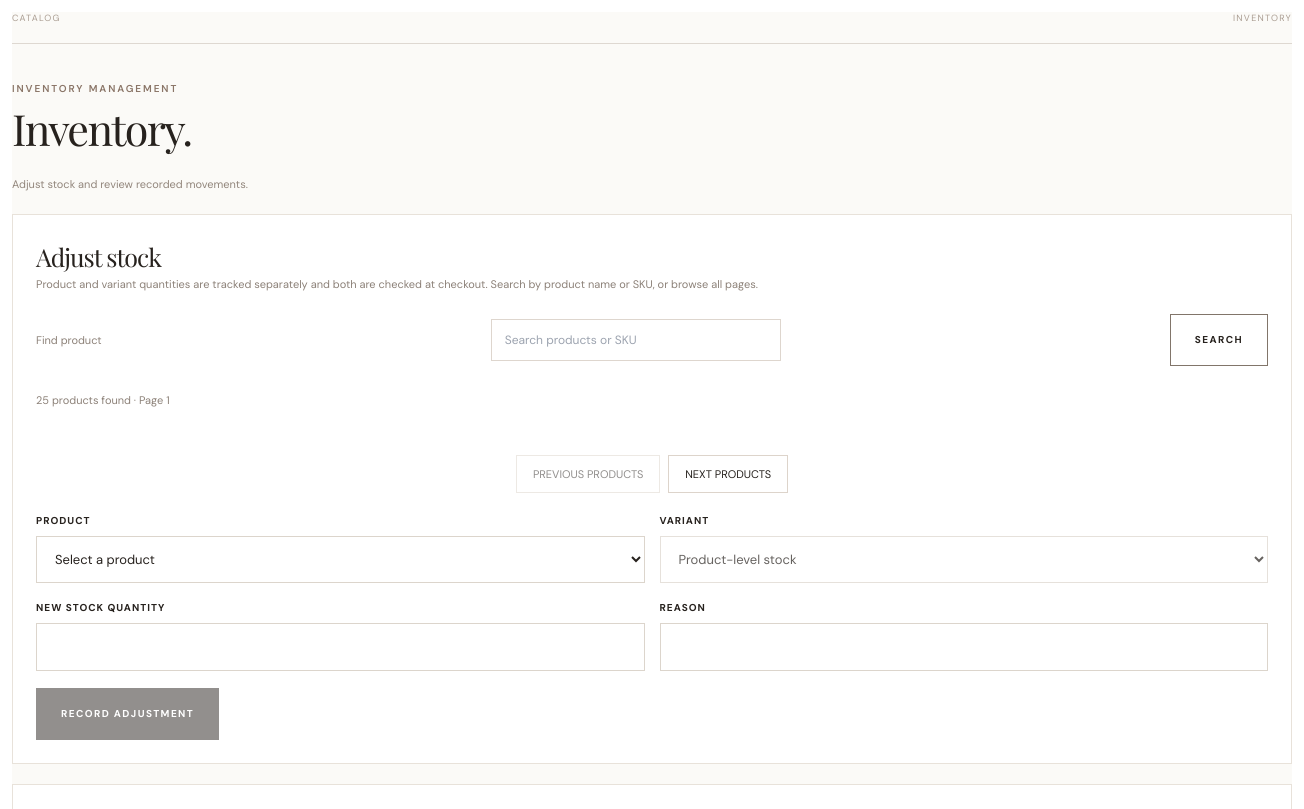
Test: Inventory adjustment › searches server-side and preserves the selected product when the result page changes
Expected: the text "25 products found · Page 1" is shown, [36, 393, 170, 407]
Select "Product 1 · 2 in stock" in the dropdown labelled "Product" at {"x": 340, "y": 560}, box [36, 536, 644, 583]
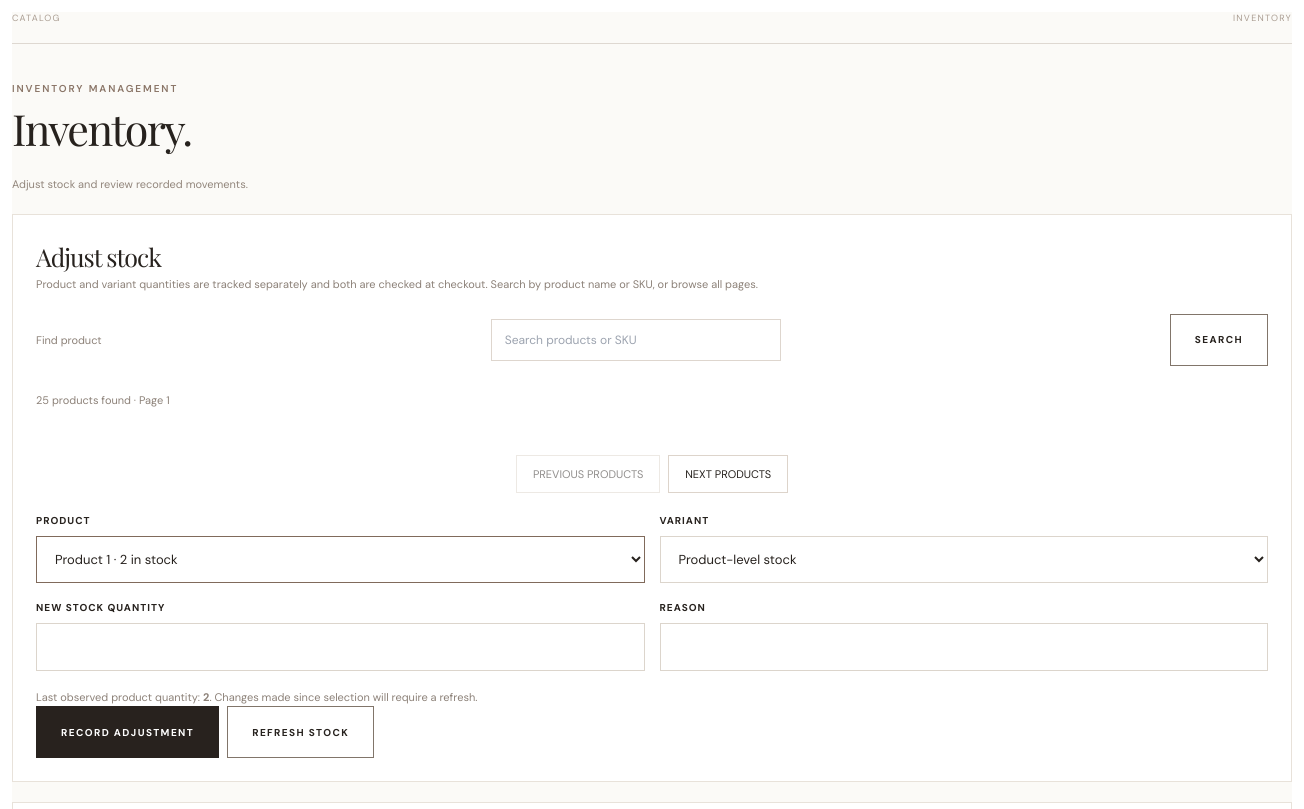
Type "SKU-25" into the field labelled "Find product" at {"x": 636, "y": 340}, box [491, 319, 781, 361]
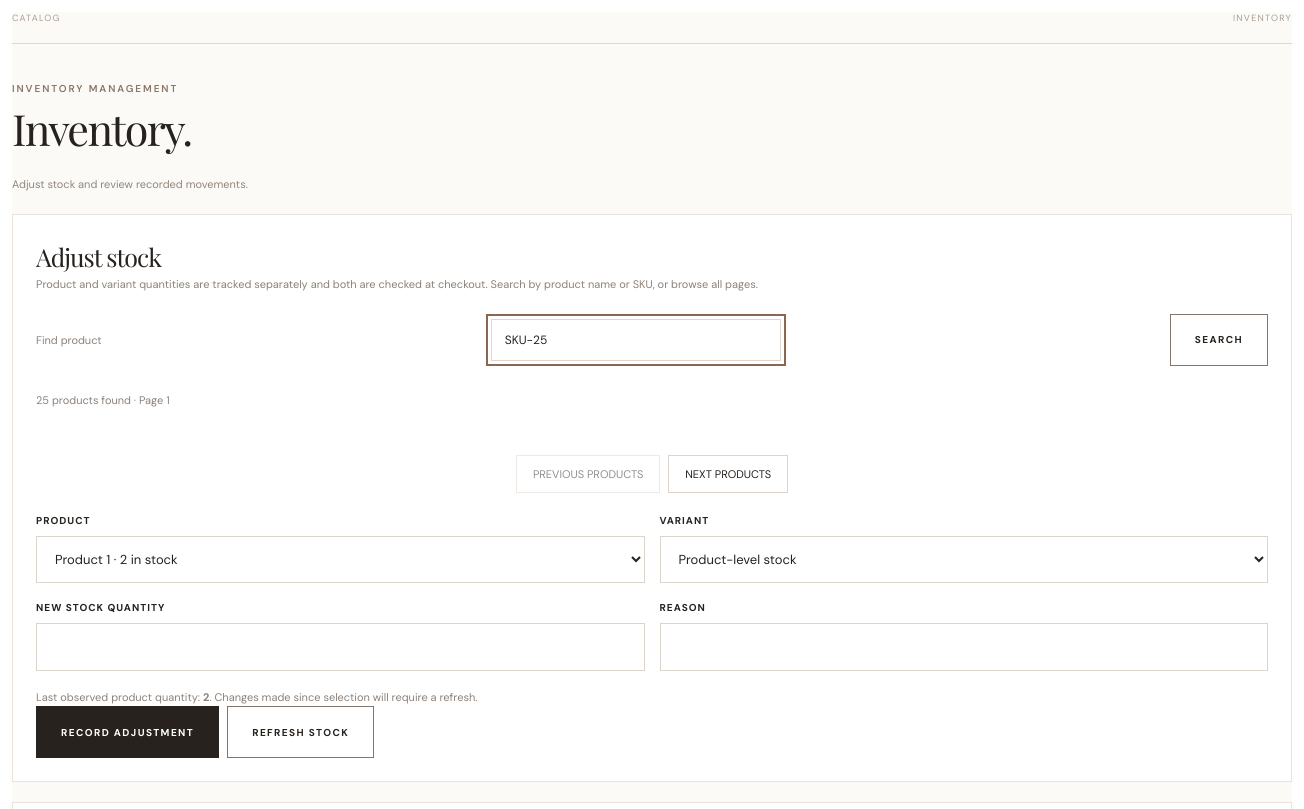
Click the button "SEARCH" at {"x": 1219, "y": 340}, box [1170, 314, 1268, 366]
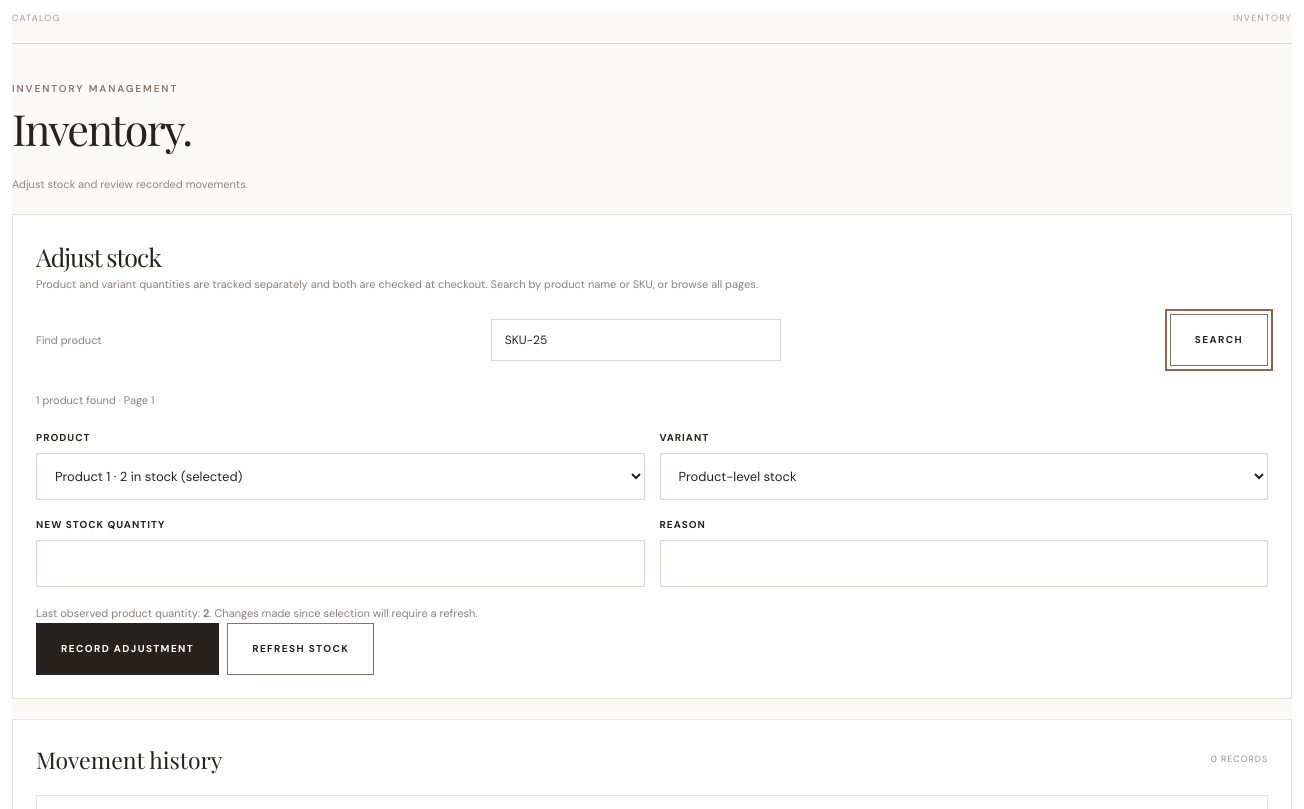
Now the text "1 product found · Page 1" is shown, box [36, 393, 154, 407]
